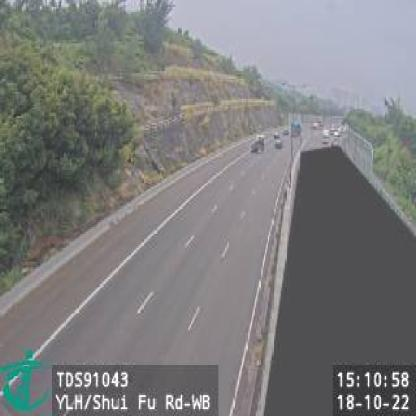Car: (251, 136, 265, 154), (275, 139, 285, 150)
